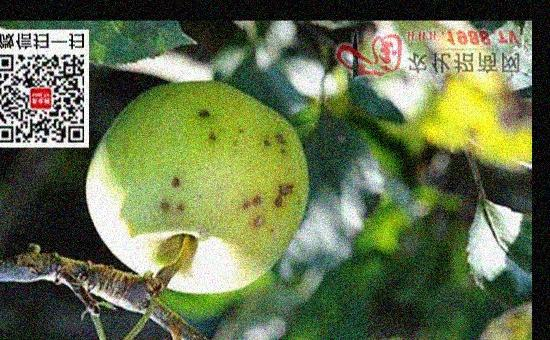rotten apple: (86, 79, 320, 291)
